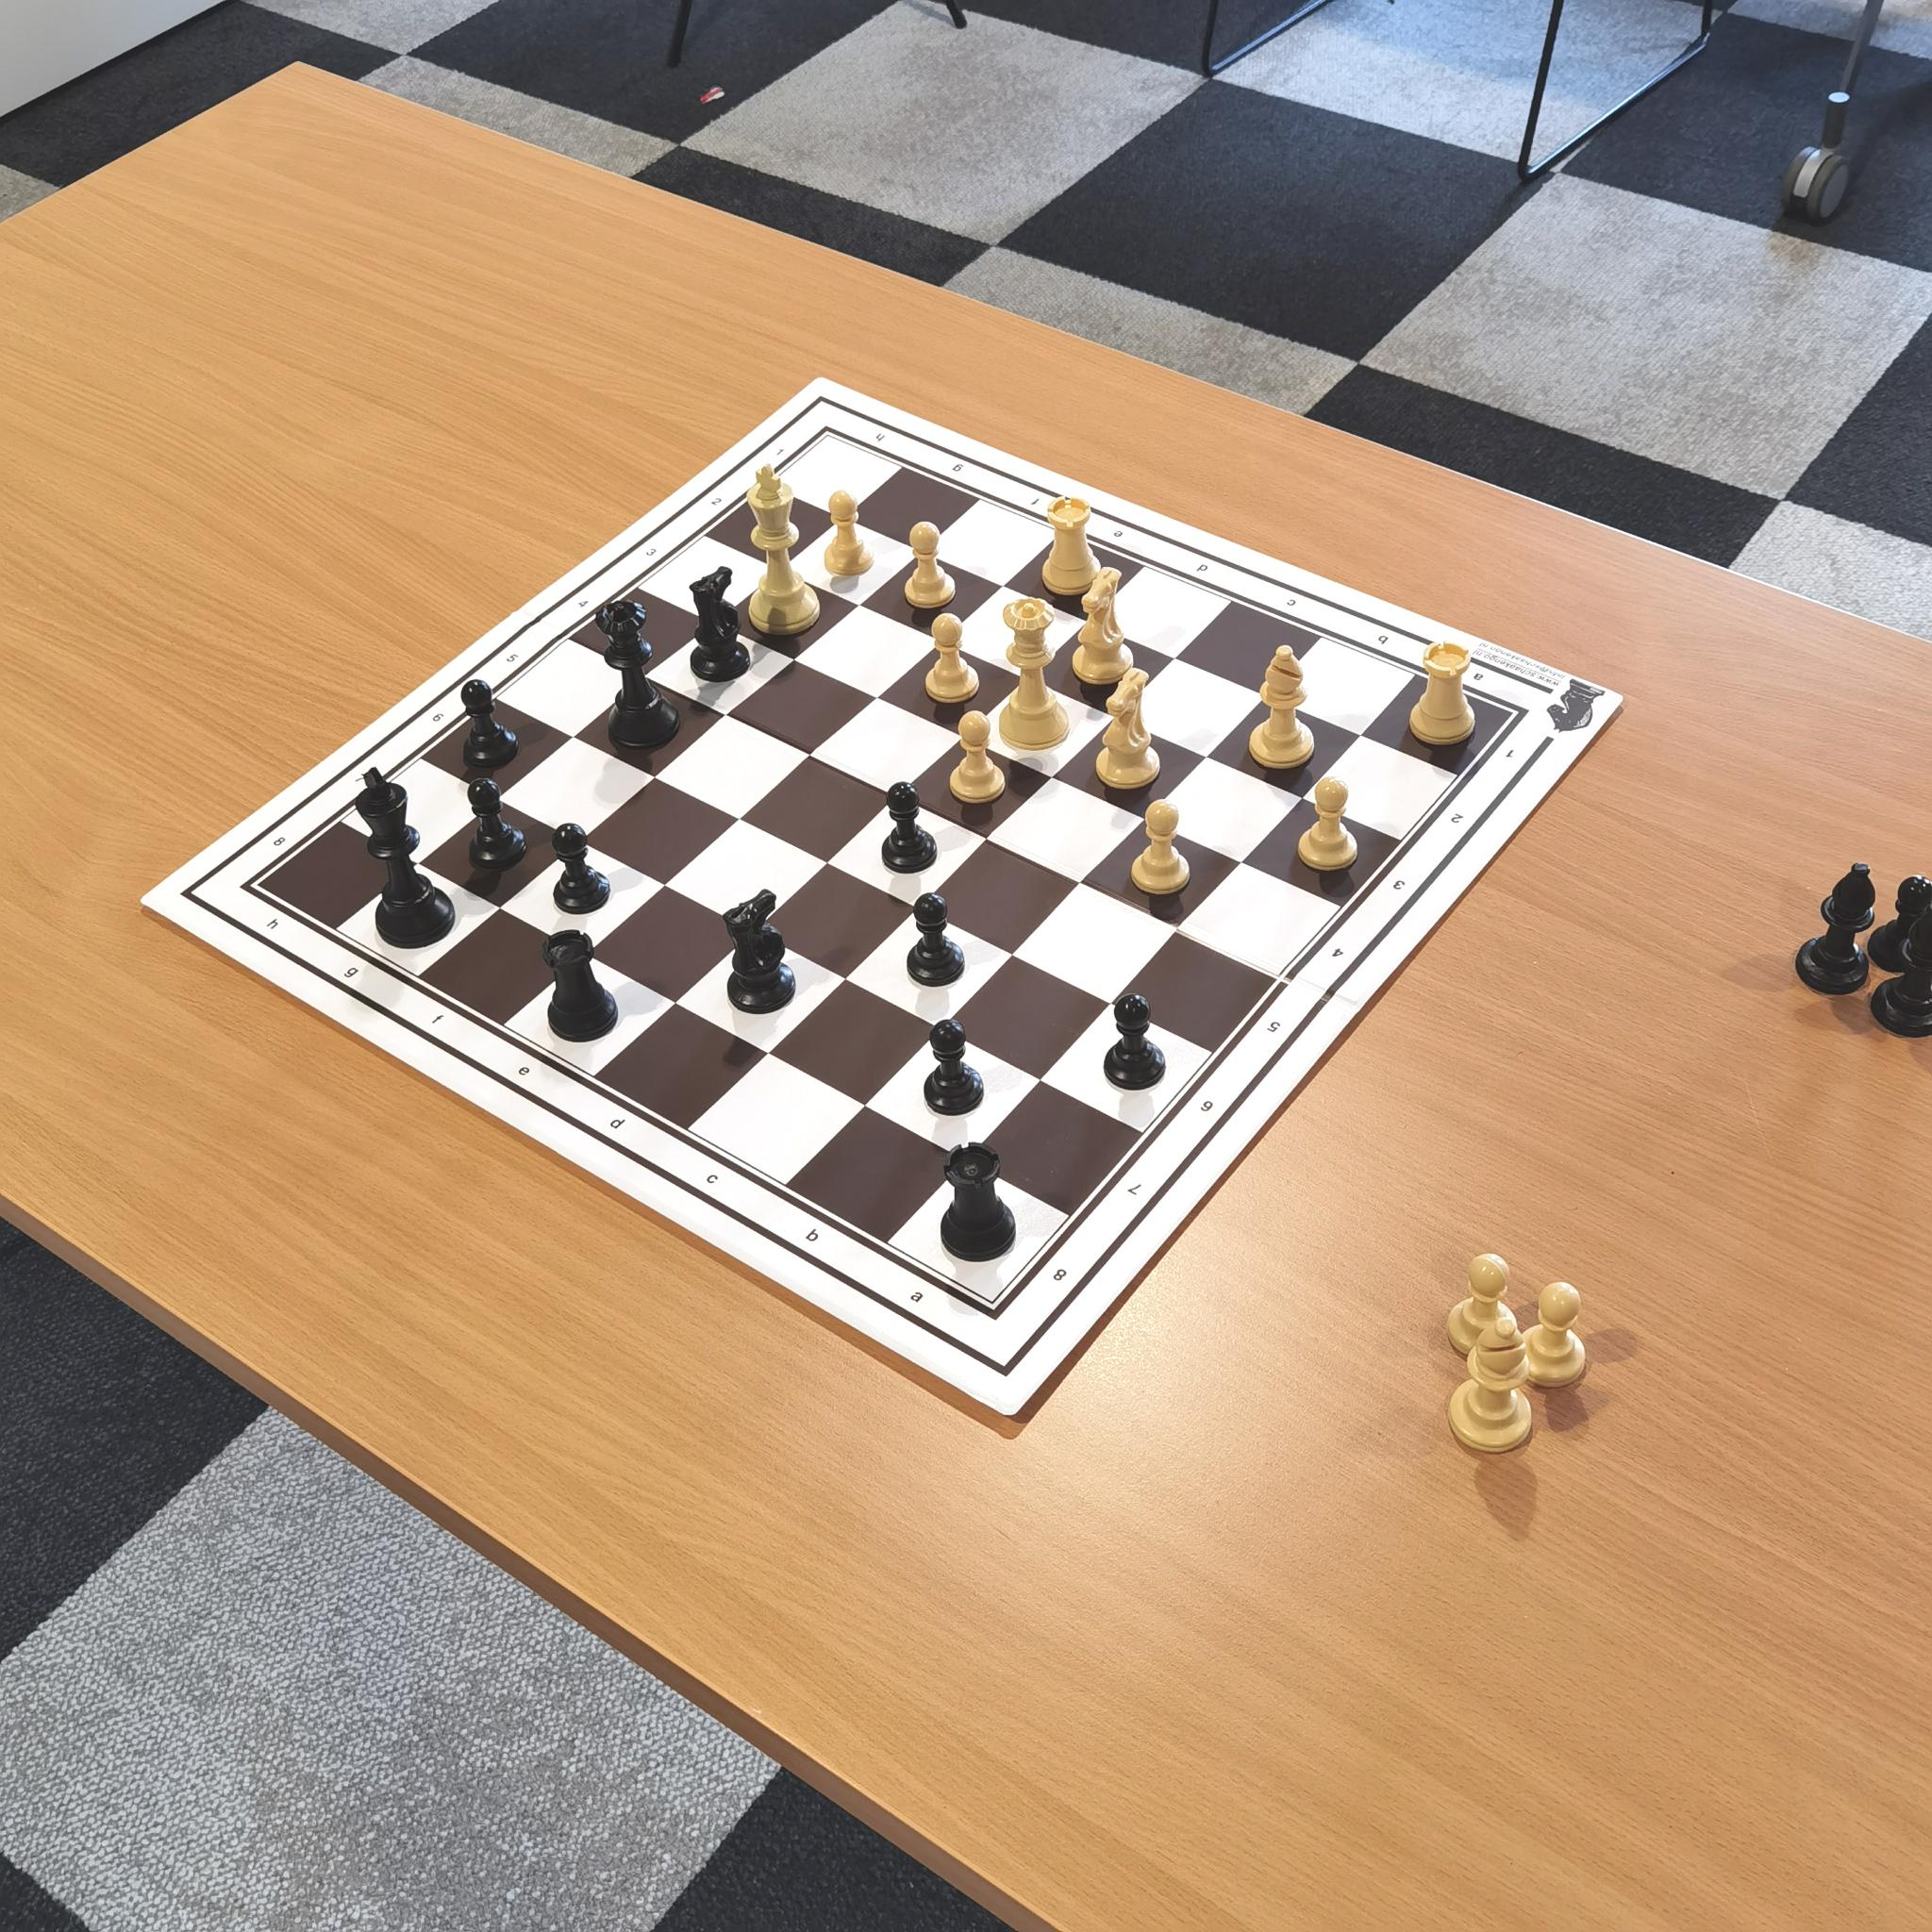corners: (970, 1284, 1017, 1334), (226, 867, 276, 904), (1497, 701, 1543, 738), (810, 419, 849, 453)
eight: (253, 817, 304, 860), (1040, 1253, 1081, 1295)
one: (1493, 736, 1529, 771), (770, 437, 796, 464)
